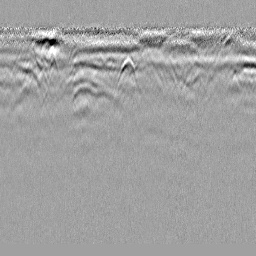cavity: (114, 56, 139, 90)
